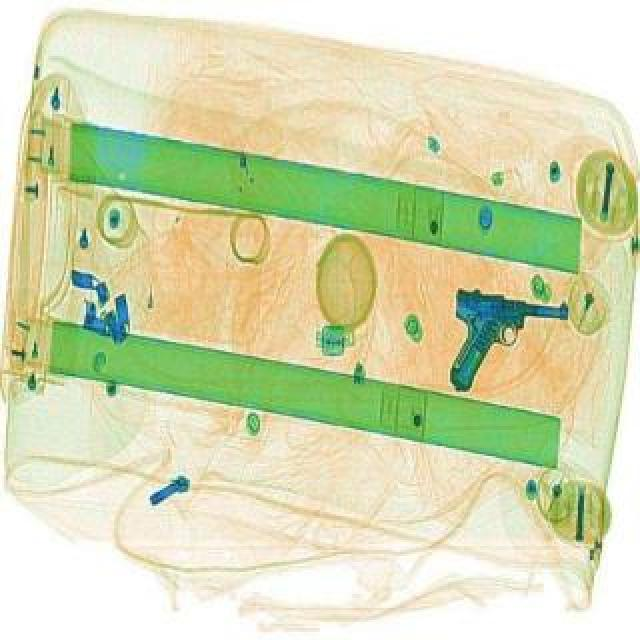gun: (438, 284, 570, 406)
